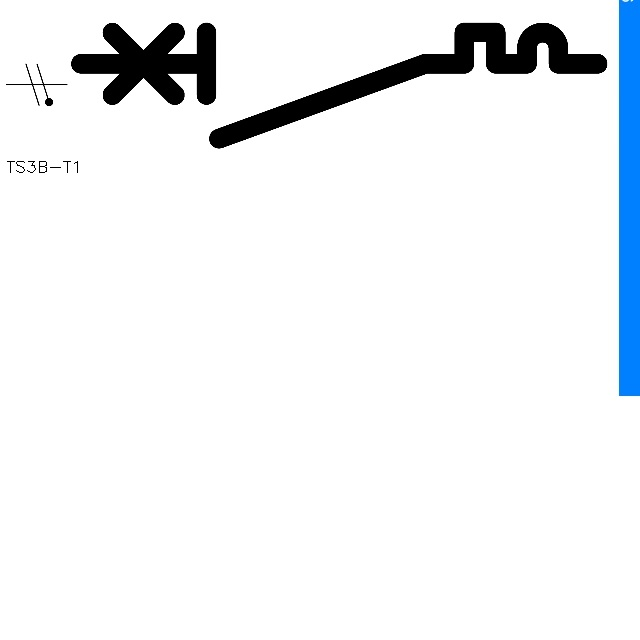interruptor_termomagnetico: (67, 19, 610, 152)
